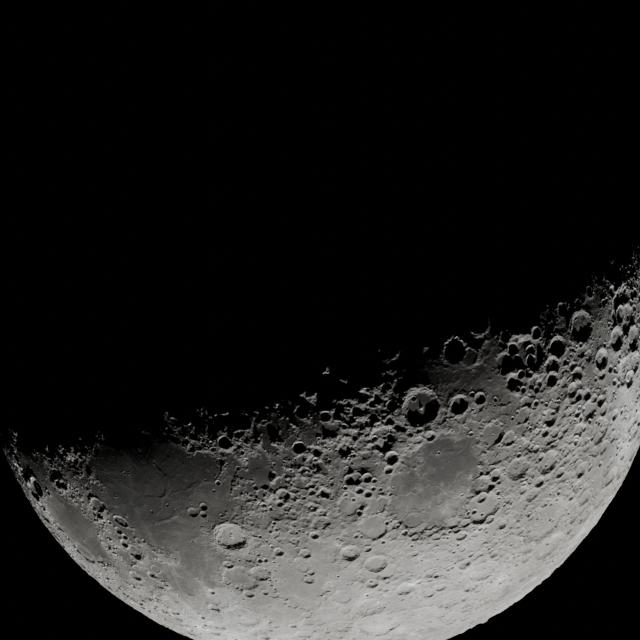crater: (402, 391, 437, 427), (222, 564, 259, 592), (466, 490, 498, 520), (213, 522, 248, 549), (357, 613, 398, 636), (355, 513, 387, 540), (568, 309, 594, 339), (480, 422, 506, 448), (448, 394, 470, 416), (547, 335, 568, 358), (319, 415, 342, 436), (235, 612, 261, 630), (364, 554, 388, 573), (472, 474, 494, 494), (292, 398, 312, 420), (292, 555, 315, 574), (514, 405, 534, 426), (233, 412, 254, 432), (247, 565, 273, 581), (616, 302, 634, 325), (369, 425, 392, 443), (330, 587, 354, 604), (580, 400, 600, 420), (506, 372, 526, 392), (311, 515, 333, 533), (613, 290, 631, 312), (523, 343, 540, 366), (539, 456, 559, 475), (543, 355, 561, 375), (340, 544, 361, 561), (609, 326, 625, 348), (460, 348, 479, 366), (88, 496, 106, 514), (592, 426, 608, 446), (594, 348, 609, 369), (566, 381, 584, 398), (356, 386, 374, 403), (395, 582, 416, 596), (542, 411, 559, 427), (386, 397, 402, 414), (383, 450, 399, 466), (544, 372, 560, 388), (270, 476, 286, 492), (274, 488, 291, 503), (112, 514, 129, 529), (517, 397, 534, 412), (216, 435, 233, 450), (290, 440, 308, 454), (343, 472, 361, 486), (337, 443, 352, 459), (556, 301, 570, 318), (472, 391, 487, 405), (316, 487, 332, 500), (507, 342, 521, 356), (309, 446, 324, 459), (603, 473, 616, 488), (570, 368, 584, 381), (530, 326, 543, 340), (318, 410, 333, 422), (54, 478, 67, 491), (360, 472, 374, 484), (625, 370, 635, 386), (632, 324, 640, 344), (490, 469, 502, 482), (266, 469, 278, 482), (578, 494, 590, 507), (458, 559, 472, 570), (129, 549, 142, 560), (298, 548, 312, 558), (575, 467, 586, 479), (596, 395, 606, 408), (258, 481, 271, 491), (302, 575, 316, 584), (365, 579, 379, 588), (476, 493, 488, 503), (222, 560, 235, 569), (534, 478, 545, 488), (584, 348, 594, 359), (355, 506, 365, 516), (384, 465, 394, 475), (309, 531, 320, 540), (148, 571, 159, 580), (199, 502, 208, 512), (456, 532, 467, 540), (274, 548, 284, 556), (132, 574, 142, 582), (354, 486, 364, 494), (120, 540, 129, 548), (115, 528, 124, 536), (364, 490, 373, 498), (470, 508, 479, 516), (612, 378, 620, 387), (401, 528, 409, 535), (364, 546, 372, 553), (309, 505, 317, 512)
rock: (384, 351, 401, 366), (84, 463, 95, 478), (208, 605, 222, 614), (186, 442, 196, 452), (422, 346, 431, 355), (207, 589, 217, 597), (219, 412, 229, 418), (214, 479, 222, 486), (44, 445, 50, 454), (467, 429, 474, 436), (121, 469, 127, 475), (164, 502, 170, 507), (436, 450, 442, 455), (140, 538, 145, 543), (149, 509, 154, 514), (212, 488, 216, 492)
